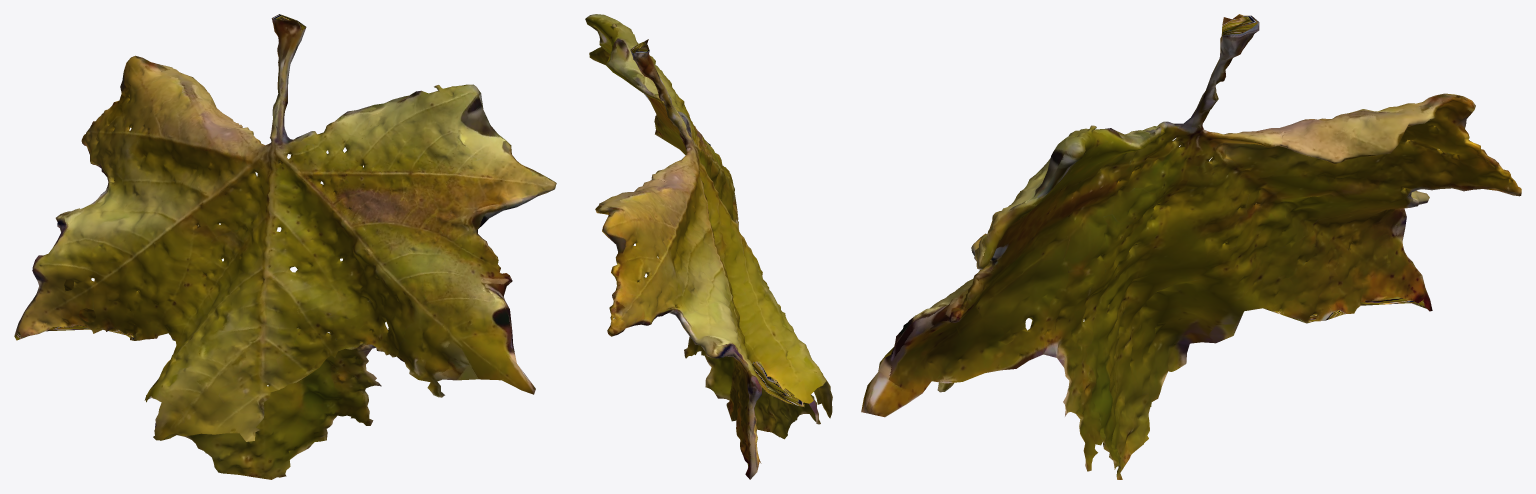
File: leaf2.glb
3 views of the same model, side by side, from view 1: azimuth 30°, elevation 25°; view 2: azimuth 150°, elevation 25°; view 3: azimuth 270°, elevation 25° (orthographic). The views are drawn at different scales.
Visible parts, largest first — view 1: Object_4; view 2: Object_4; view 3: Object_4.
Part boxes in pixels (bbox=[...]): Object_4: bbox=[14, 14, 556, 479]; Object_4: bbox=[585, 14, 832, 479]; Object_4: bbox=[861, 14, 1521, 479].
Bounding box in the file's own units: 0.5725 × 0.6337 × 0.7658.
1 material, 1 textured.
